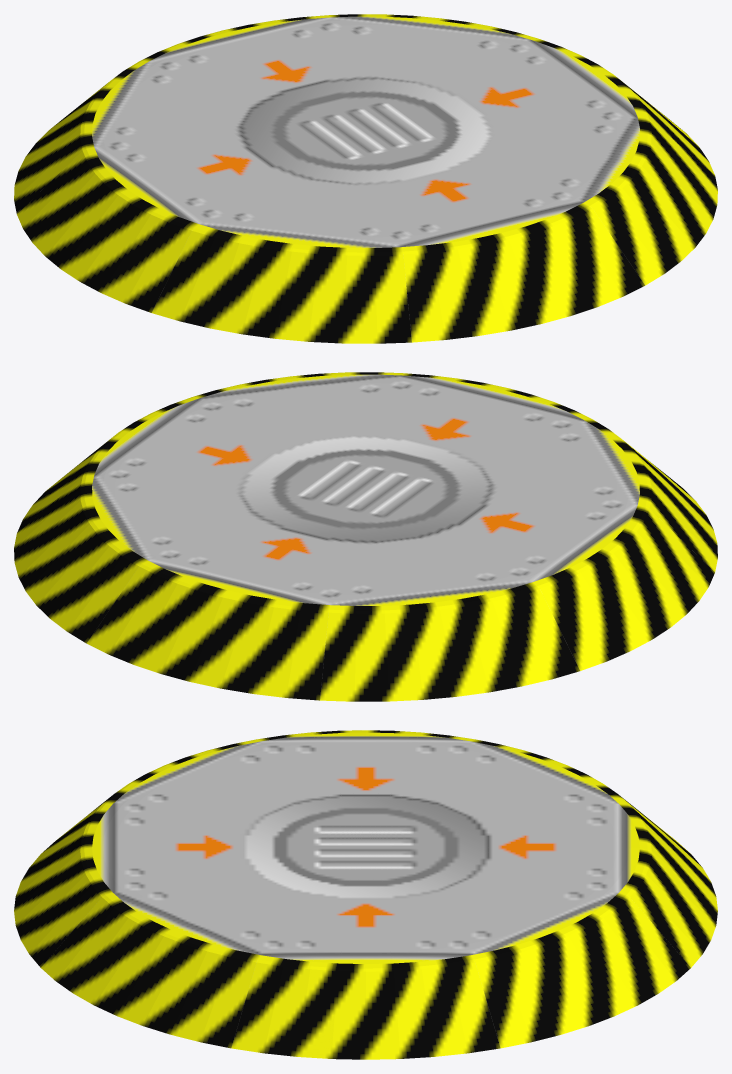
File: end.obj
The picture shows the model from 3 angles, top to bottom: view 1: azimuth 30°, elevation 25°; view 2: azimuth 150°, elevation 25°; view 3: azimuth 270°, elevation 25°; orthographic projection.
Parts seen in each view (by area): view 1: Cylinder; view 2: Cylinder; view 3: Cylinder.
Boxes of the visible parts, x1,y1,x2,y2 form: Cylinder: [14, 14, 717, 343]; Cylinder: [14, 372, 717, 701]; Cylinder: [14, 730, 717, 1059].
Size of the model in its own units: 20 by 2 by 20.
